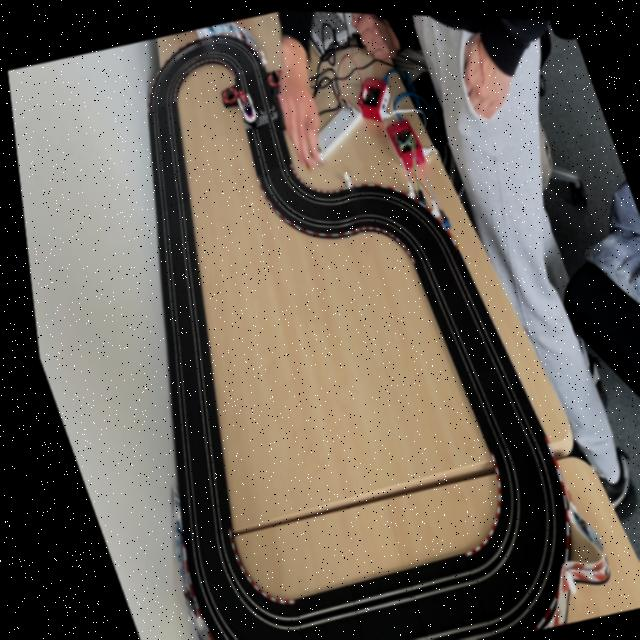mario: (230, 84, 259, 125)
